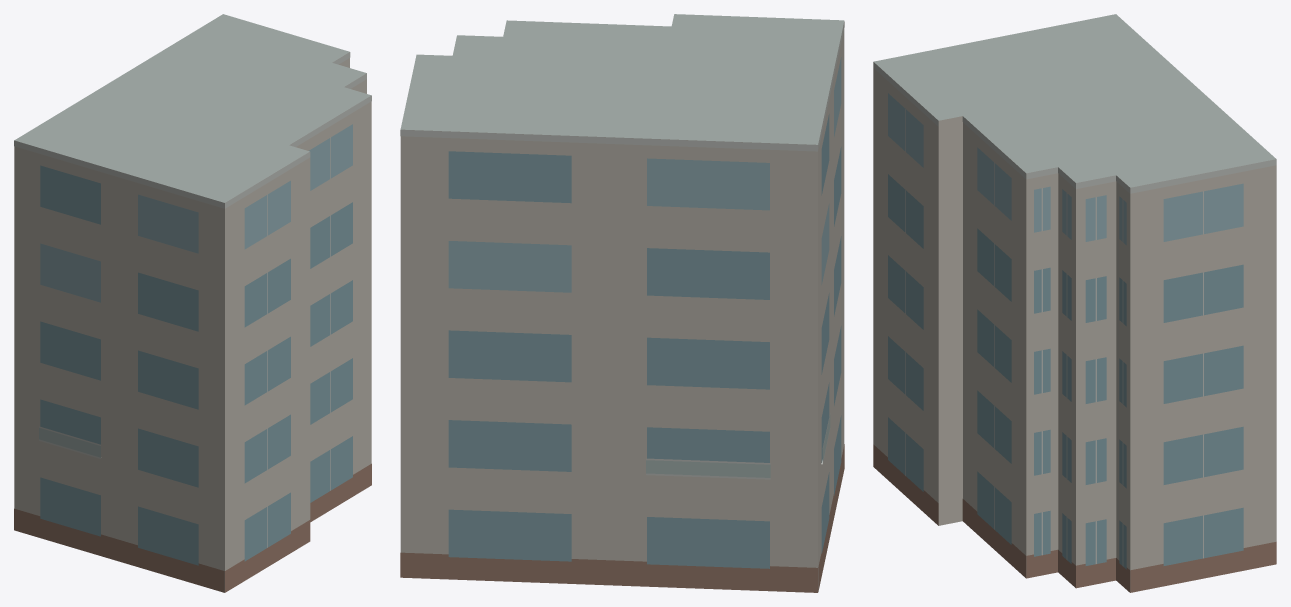
The model's file is survey-upis-32891472.glb.
3 views of the same model, side by side, from view 1: azimuth 30°, elevation 25°; view 2: azimuth 150°, elevation 25°; view 3: azimuth 270°, elevation 25° (orthographic). The views are drawn at different scales.
Visible parts, largest first — view 1: survey-upis-32891472.tmp; view 2: survey-upis-32891472.tmp; view 3: survey-upis-32891472.tmp.
Part boxes in pixels (x1,y1,x2,y2): survey-upis-32891472.tmp: [14, 14, 371, 592]; survey-upis-32891472.tmp: [400, 14, 844, 592]; survey-upis-32891472.tmp: [873, 14, 1276, 592].
Size of the model in its own units: 15 by 16.3 by 14.72.
